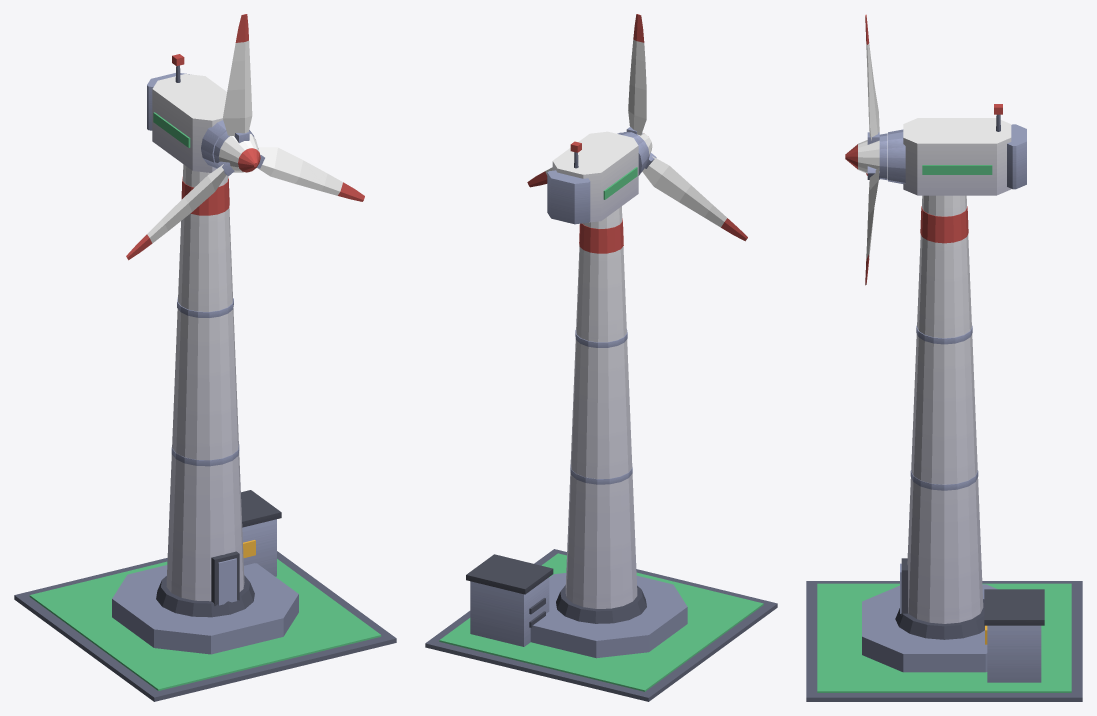
Rendered from wind_turbine_hawt_1x1.glb.
3 views of the same model, side by side, from view 1: azimuth 30°, elevation 25°; view 2: azimuth 150°, elevation 25°; view 3: azimuth 270°, elevation 25° (orthographic). The views are drawn at different scales.
Visible parts, largest first — view 1: Base, Rotor; view 2: Base, Rotor; view 3: Base, Rotor.
Boxes of the visible parts, x1,y1,x2,y2 form: Base: (14,54,396,701); Rotor: (126,14,364,260); Base: (425,131,777,701); Rotor: (527,14,747,241); Base: (806,104,1082,701); Rotor: (845,14,887,285).
Bounding box in the file's own units: 1.74 × 4.36 × 1.74.
1 material, 1 textured.
